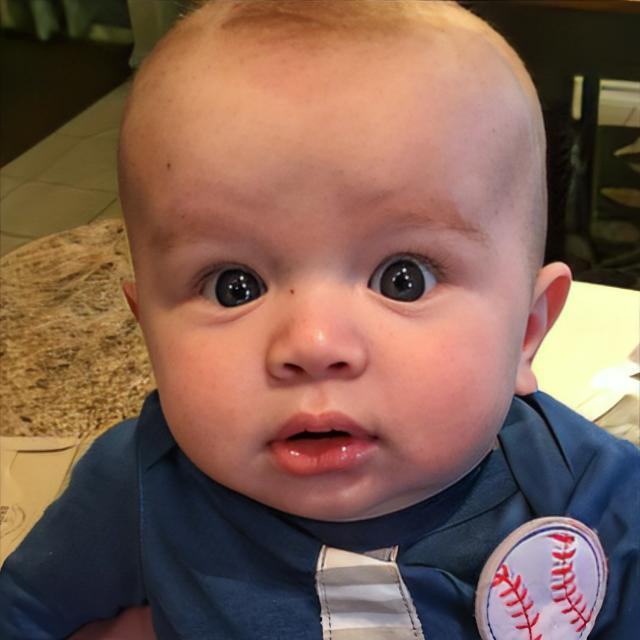Fear: (132, 26, 530, 525)
